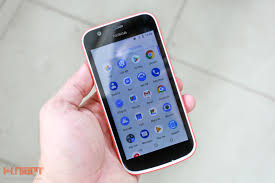nokia: (79, 9, 202, 177)
